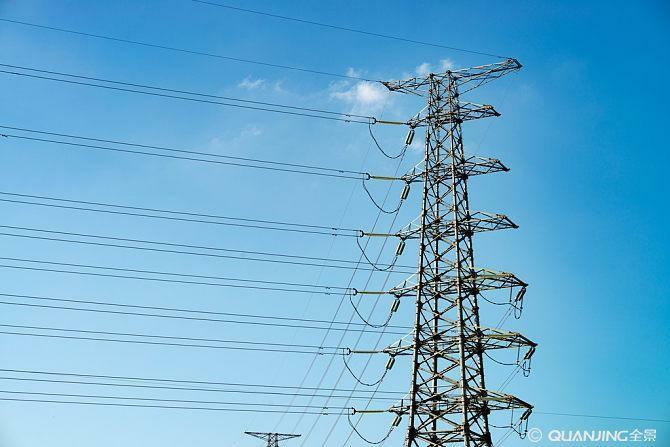power_tower: (360, 51, 536, 447)
